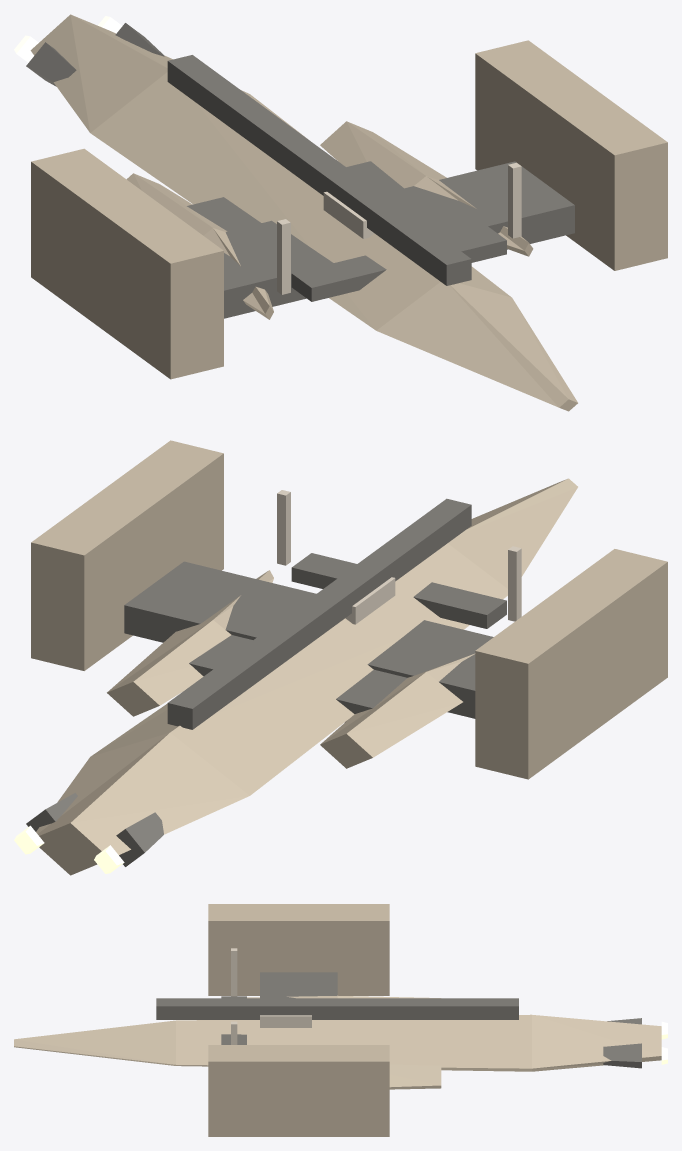
The picture shows the model from 3 angles, top to bottom: view 1: azimuth 30°, elevation 25°; view 2: azimuth 150°, elevation 25°; view 3: azimuth 270°, elevation 25°; orthographic projection. The views are drawn at different scales.
Size of the model in its own units: 5.94 by 1.56 by 10.4.
